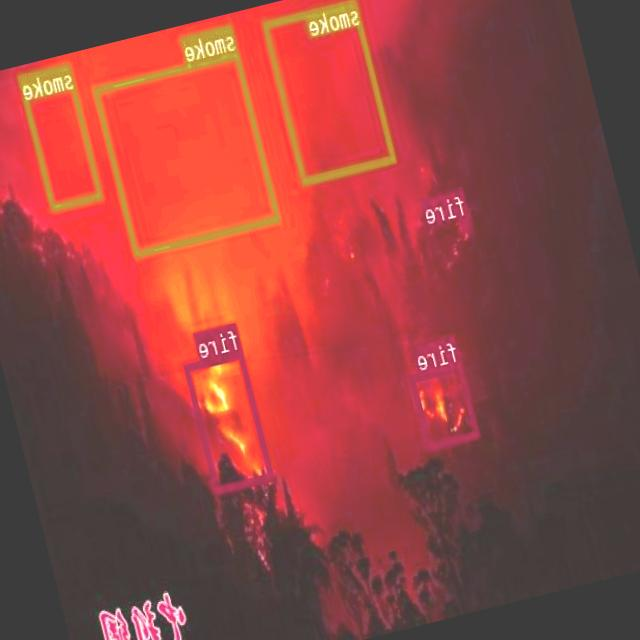fire: (183, 348, 275, 493), (410, 361, 480, 450), (460, 213, 473, 230)
smoke: (94, 48, 282, 255), (262, 0, 397, 183), (18, 61, 104, 210)
